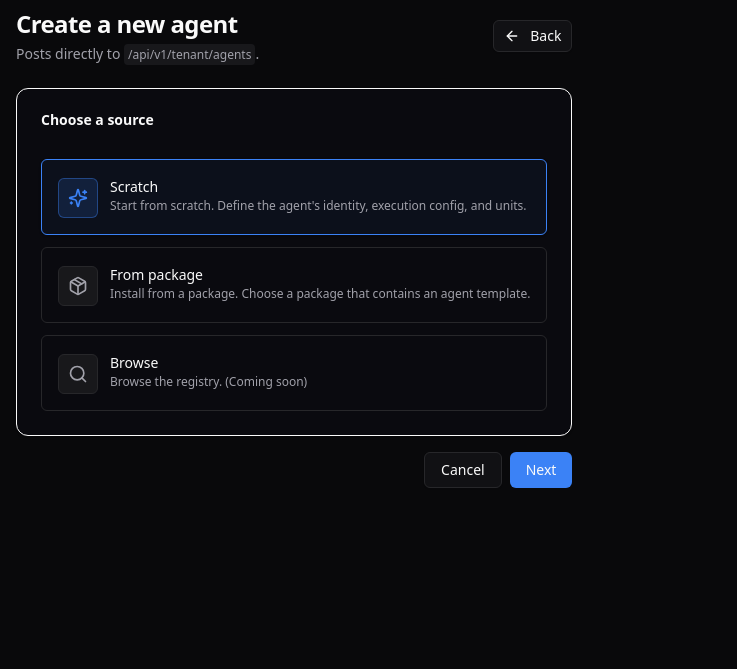
Test case: CreateAgentPage — runtime-aware provider banner + picker › leaves the provider in inherit mode for multi-provider runtimes (ADR-0039 I4)
Click the button "Next".
click(541, 470)  # box 510,452 -> 572,488
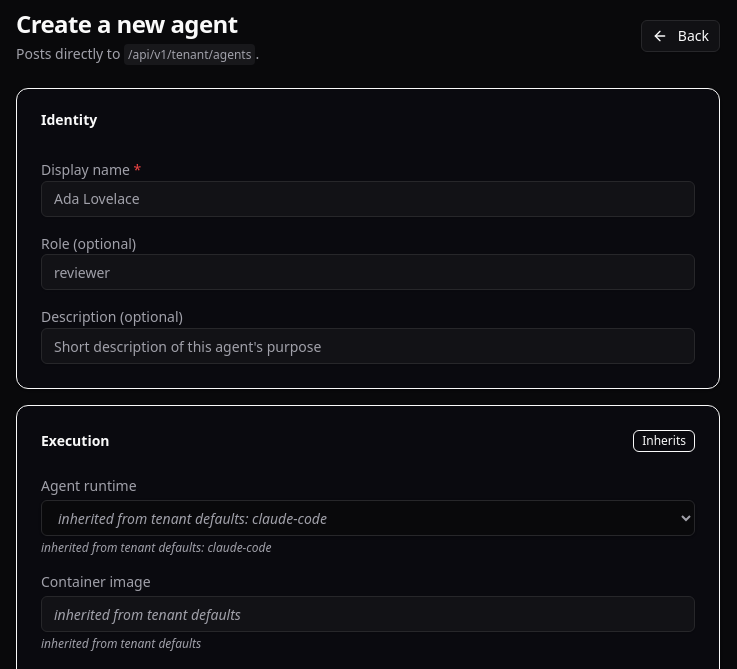
Expected: the dropdown named "agent runtime" is shown
Select "Spring Voyage Agent" in the dropdown named "agent runtime" at {"x": 368, "y": 518}, box 41,500 -> 695,536
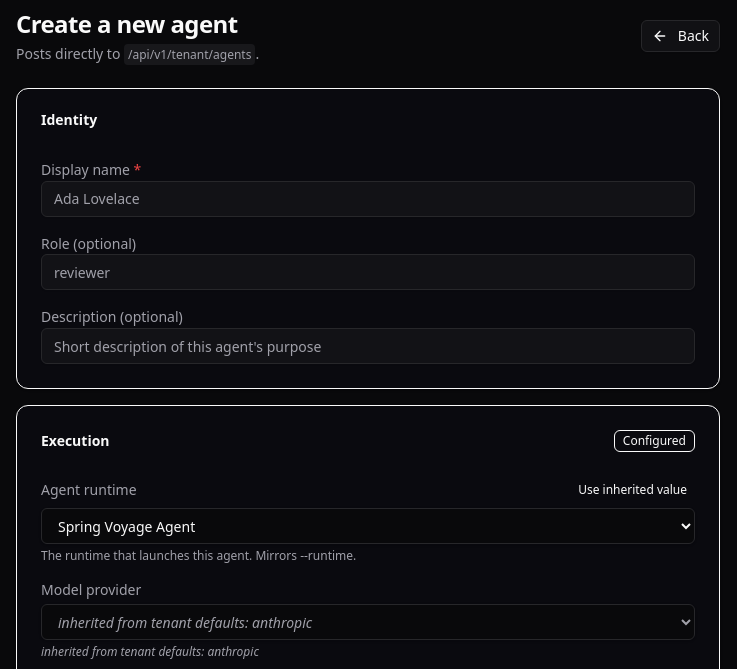
Expected: the dropdown named "model provider" is enabled, 41,604 -> 695,640
Expected: the dropdown named "model provider" shows "inherited from tenant defaults: anthropic", 41,604 -> 695,640
